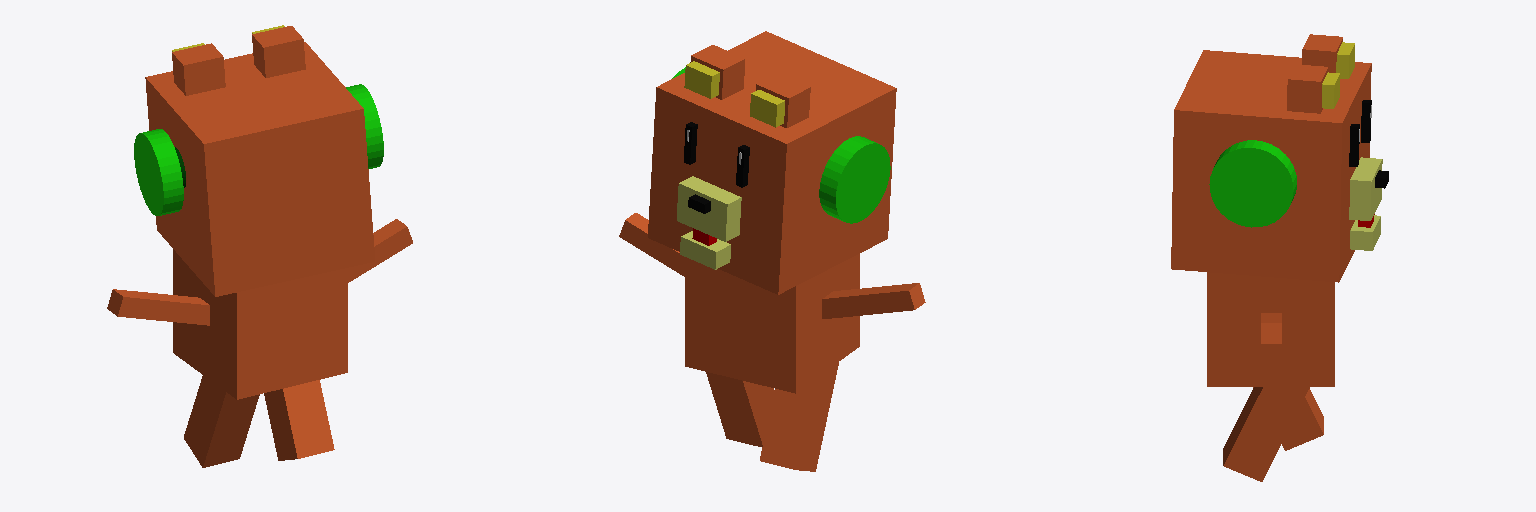
File: lesson2.obj
3 renders of one model, left to right at view 1: azimuth 30°, elevation 25°; view 2: azimuth 150°, elevation 25°; view 3: azimuth 270°, elevation 25°, orthographic.
Parts seen in each view (by area): view 1: 立方体_立方体.006, 立方体.001_立方体.007, 立方体.003_立方体.009, 立方体.002_立方体.026, 円柱.003_円柱.009, 立方体.007_立方体.013, 立方体.008_立方体.014, 立方体.009_立方体.015, 立方体.006_立方体.021, 円柱.001_円柱.003; view 2: 立方体_立方体.006, 立方体.001_立方体.007, 立方体.003_立方体.009, 円柱.003_円柱.009, 立方体.002_立方体.026, 立方体.012_立方体.018, 立方体.007_立方体.013, 立方体.009_立方体.015, 立方体.008_立方体.014, 立方体.006_立方体.021, 立方体.014_立方体.020, 立方体.011_立方体.017 (+1 smaller); view 3: 立方体_立方体.006, 立方体.001_立方体.007, 円柱.001_円柱.003, 立方体.002_立方体.026, 立方体.012_立方体.018, 立方体.008_立方体.014, 立方体.003_立方体.009, 立方体.009_立方体.015, 立方体.014_立方体.020, 立方体.006_立方体.021, 立方体.010_立方体.016, 立方体.011_立方体.017.
Part boxes in pixels (x1,y1,x2,y2): 立方体_立方体.006: (145, 42, 374, 296); 立方体.001_立方体.007: (173, 249, 347, 399); 立方体.003_立方体.009: (184, 375, 259, 467); 立方体.002_立方体.026: (264, 380, 334, 460); 円柱.003_円柱.009: (134, 129, 183, 215); 立方体.007_立方体.013: (107, 289, 209, 325); 立方体.008_立方体.014: (252, 26, 305, 77); 立方体.009_立方体.015: (172, 43, 225, 95); 立方体.006_立方体.021: (348, 219, 412, 282); 円柱.001_円柱.003: (346, 84, 383, 168); 立方体_立方体.006: (648, 31, 896, 294); 立方体.001_立方体.007: (685, 254, 859, 393); 立方体.003_立方体.009: (760, 362, 838, 471); 円柱.003_円柱.009: (819, 136, 890, 223); 立方体.002_立方体.026: (706, 372, 773, 446); 立方体.012_立方体.018: (677, 176, 741, 241); 立方体.007_立方体.013: (822, 283, 925, 318); 立方体.009_立方体.015: (756, 73, 810, 127); 立方体.008_立方体.014: (690, 45, 744, 99); 立方体.006_立方体.021: (619, 213, 684, 276); 立方体.014_立方体.020: (680, 231, 730, 269); 立方体.011_立方体.017: (684, 61, 719, 98); 立方体_立方体.006: (1171, 50, 1371, 282); 立方体.001_立方体.007: (1207, 272, 1334, 386); 円柱.001_円柱.003: (1209, 140, 1296, 227); 立方体.002_立方体.026: (1223, 387, 1309, 481); 立方体.012_立方体.018: (1349, 157, 1382, 220); 立方体.008_立方体.014: (1287, 64, 1328, 113); 立方体.003_立方体.009: (1253, 387, 1323, 450); 立方体.009_立方体.015: (1302, 34, 1342, 72); 立方体.014_立方体.020: (1350, 215, 1380, 250); 立方体.006_立方体.021: (1261, 313, 1281, 343); 立方体.010_立方体.016: (1336, 42, 1354, 78); 立方体.011_立方体.017: (1322, 72, 1339, 108).
Bounding box in the file's own units: 8 × 10.43 × 5.1.